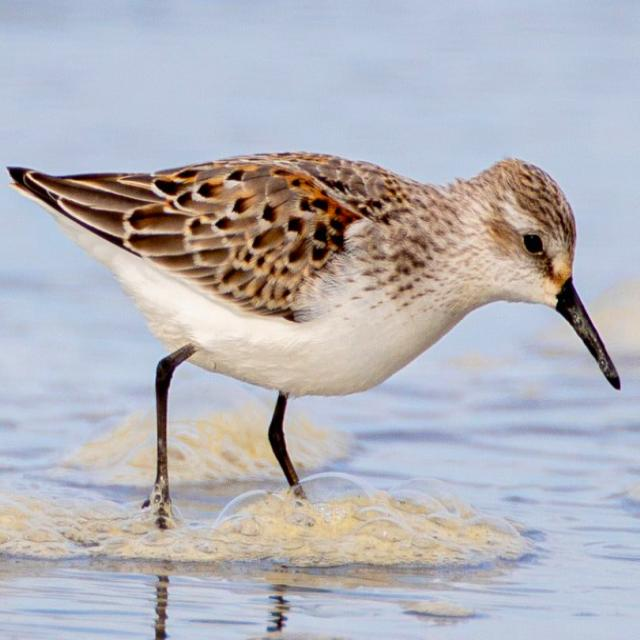sandpiper: (8, 153, 620, 526)
